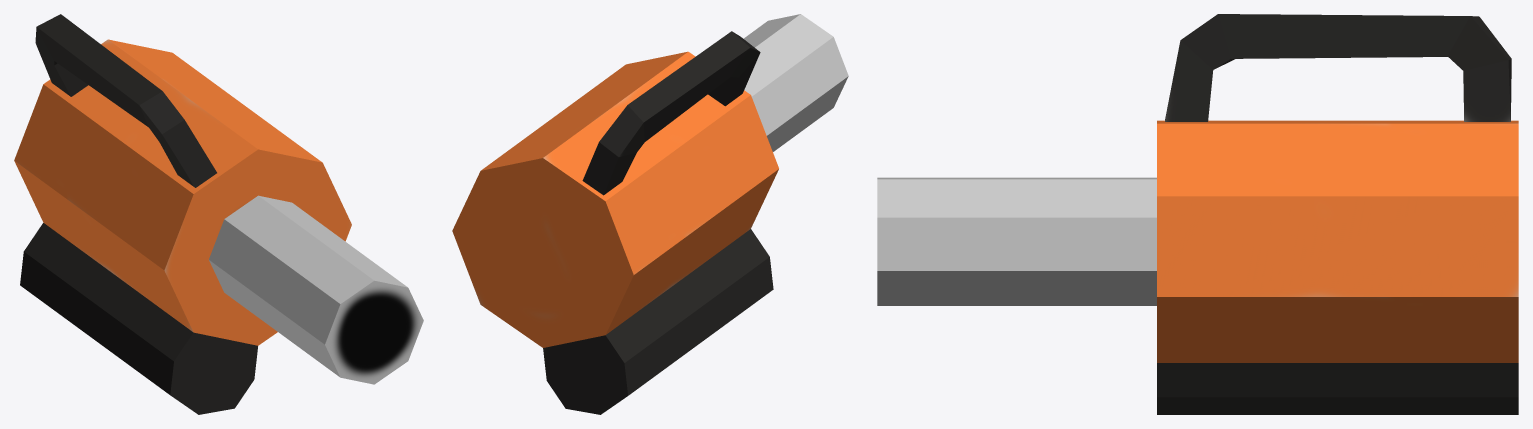
File: flamethrower.fbx
The picture shows the model from 3 angles, left to right: view 1: azimuth 30°, elevation 25°; view 2: azimuth 150°, elevation 25°; view 3: azimuth 270°, elevation 25°; orthographic projection. The views are drawn at different scales.
Parts seen in each view (by area): view 1: Cube; view 2: Cube; view 3: Cube.
Boxes of the visible parts, bbox=[...] form: Cube: bbox=[14, 14, 423, 414]; Cube: bbox=[452, 14, 848, 414]; Cube: bbox=[877, 14, 1518, 414].
Bounding box in the file's own units: 200 × 316 × 492.
